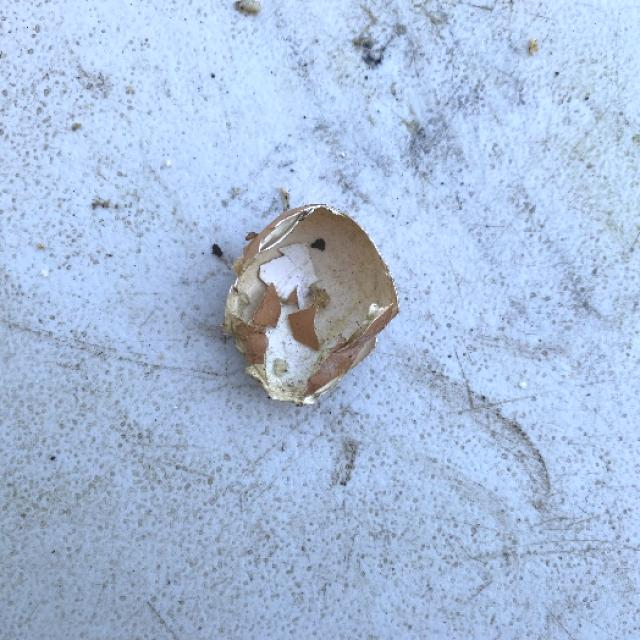wet: (355, 303, 397, 347), (306, 354, 344, 394)
